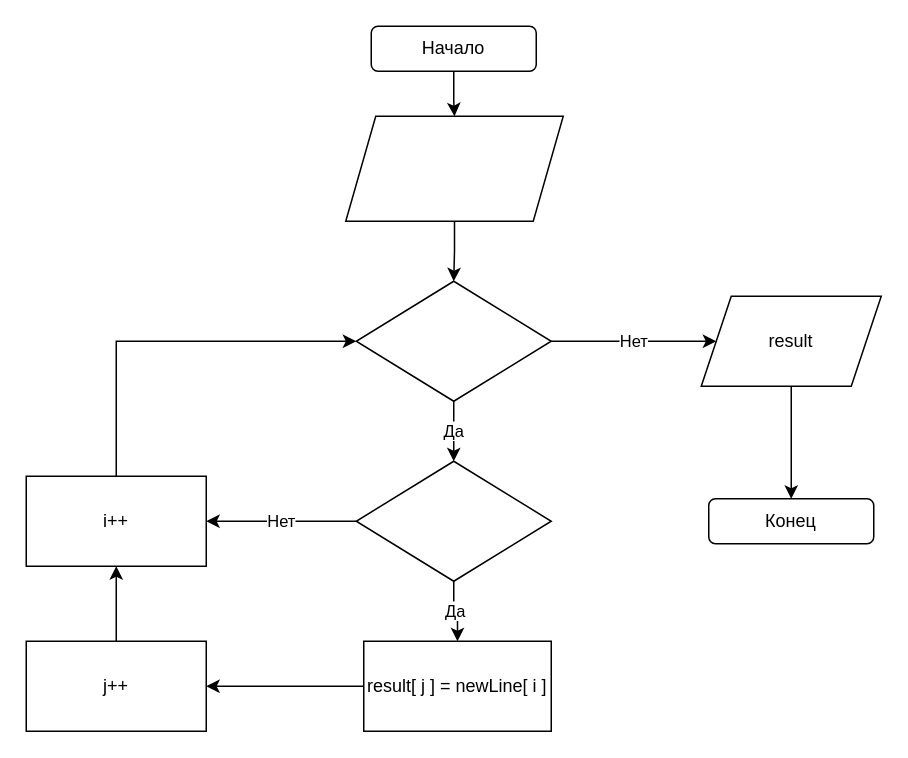
This 908x758 diagram has some shape labels left out. Each missing label, with the centre of its shape:
i < newLine.Length: point (453, 340)
newLine[ i ] <= n: point (453, 520)
string[] newLine, string[] result, int i = 0, int j = 0, int n = 3: point (453, 168)
